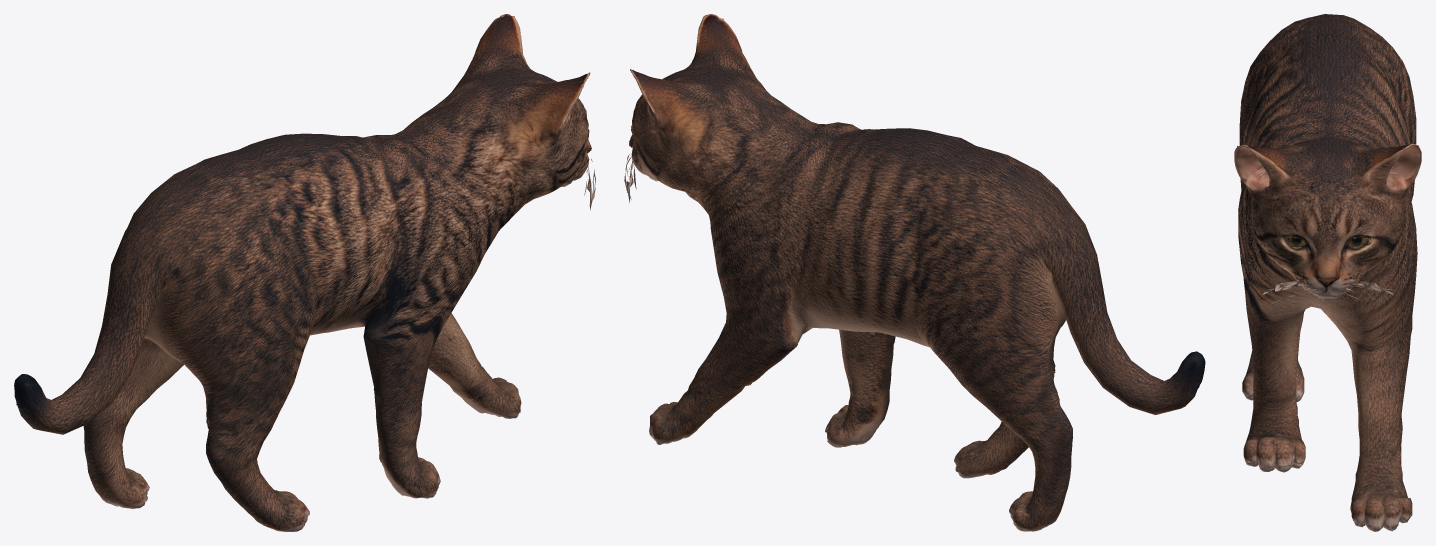
Rendered from Cat in Motion 3d model free.glb.
3 renders of one model, left to right at view 1: azimuth 30°, elevation 25°; view 2: azimuth 150°, elevation 25°; view 3: azimuth 270°, elevation 25°, orthographic. The views are drawn at different scales.
Parts seen in each view (by area): view 1: Model; view 2: Model; view 3: Model.
Part boxes in pixels (x1,y1,x2,y2): Model: [14, 14, 595, 531]; Model: [624, 14, 1205, 531]; Model: [1234, 14, 1421, 531].
Bounding box in the file's own units: 1 × 0.6439 × 0.272.
1 material, 1 textured.
